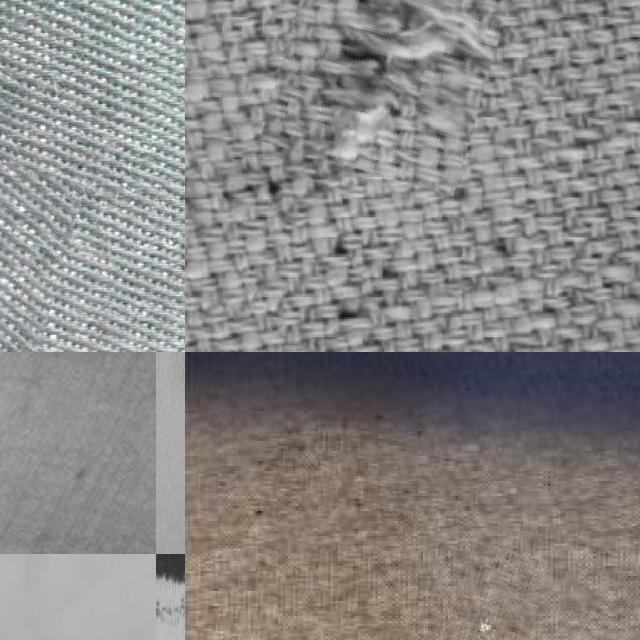other: (272, 0, 499, 184), (443, 545, 541, 640)
